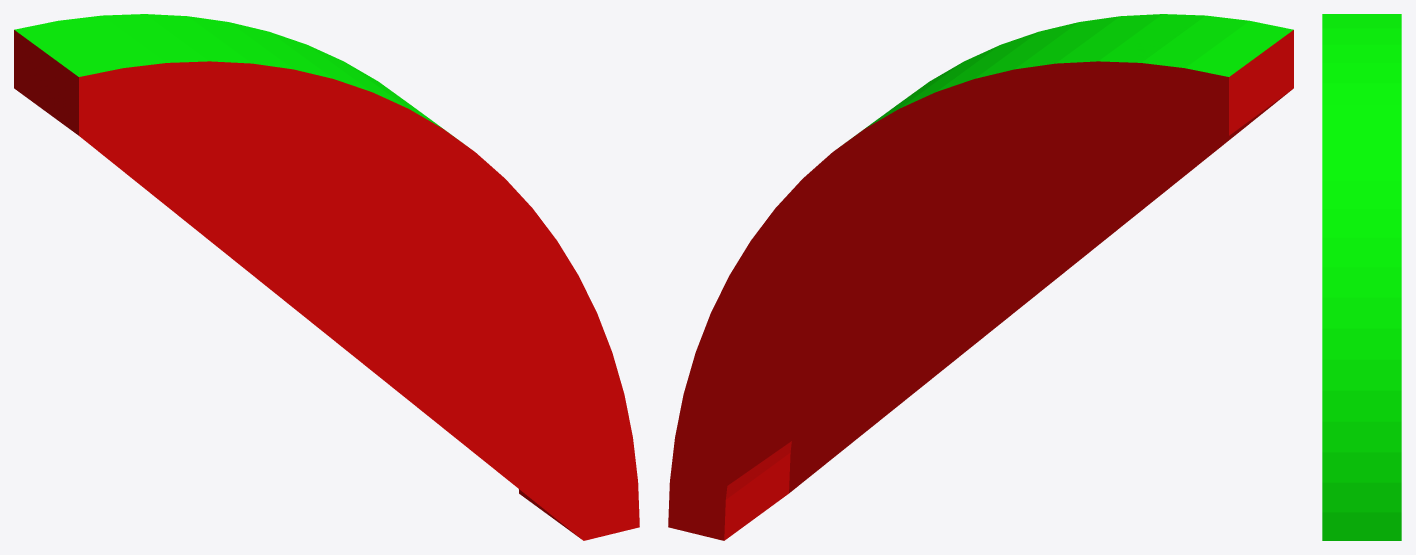
File: SegmentDown2.fbx
3 renders of one model, left to right at view 1: azimuth 30°, elevation 25°; view 2: azimuth 150°, elevation 25°; view 3: azimuth 270°, elevation 25°, orthographic. The views are drawn at different scales.
Parts seen in each view (by area): view 1: Down_2; view 2: Down_2; view 3: Down_2.
Boxes of the visible parts, x1,y1,x2,y2 form: Down_2: (14, 14, 639, 540); Down_2: (668, 14, 1293, 540); Down_2: (1322, 14, 1401, 540).
Size of the model in its own units: 1000 by 1000 by 200.
